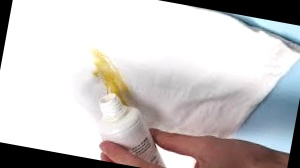mustard: (90, 55, 136, 97)
